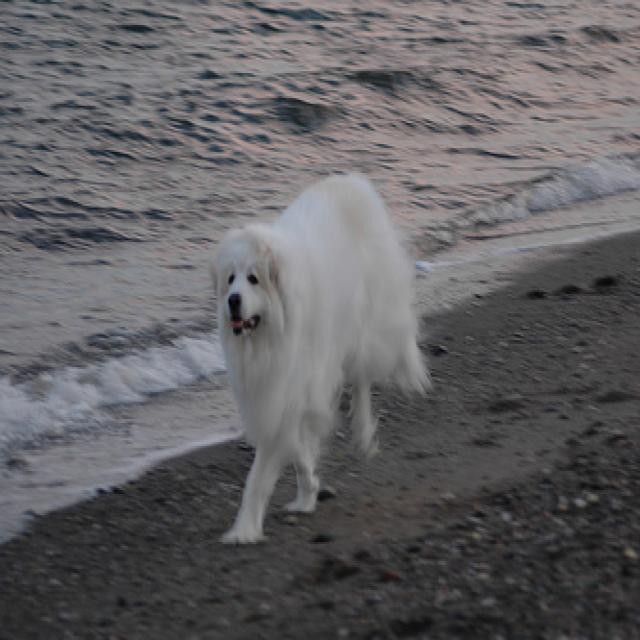dog-great_pyrenees: (204, 152, 421, 550)
